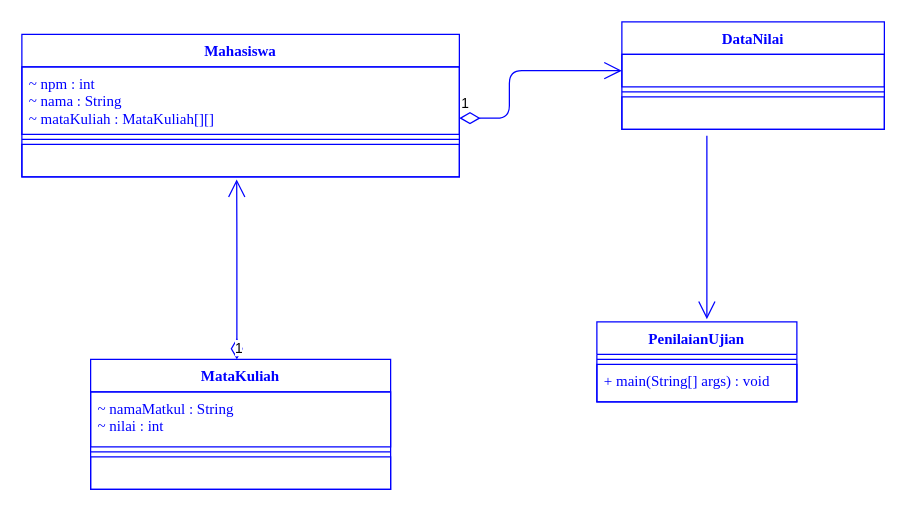
The diagram is 906 pixels wide and 515 high, and some of its shapes have lost their labels. Each missing label, with the centre of its shape:
"+ DataNilai(Mahasiswa mahasiswa)" belongs at (x=752, y=112).
"+ Mahasiswa(int npm, String nama, MataKuliah[][] mataKuliah)" belongs at (x=240, y=160).
"+ MataKuliah(String namaMatkul, int nilai)" belongs at (x=240, y=472).
"~ mahasiswa : Mahasiswa" belongs at (x=752, y=70).
